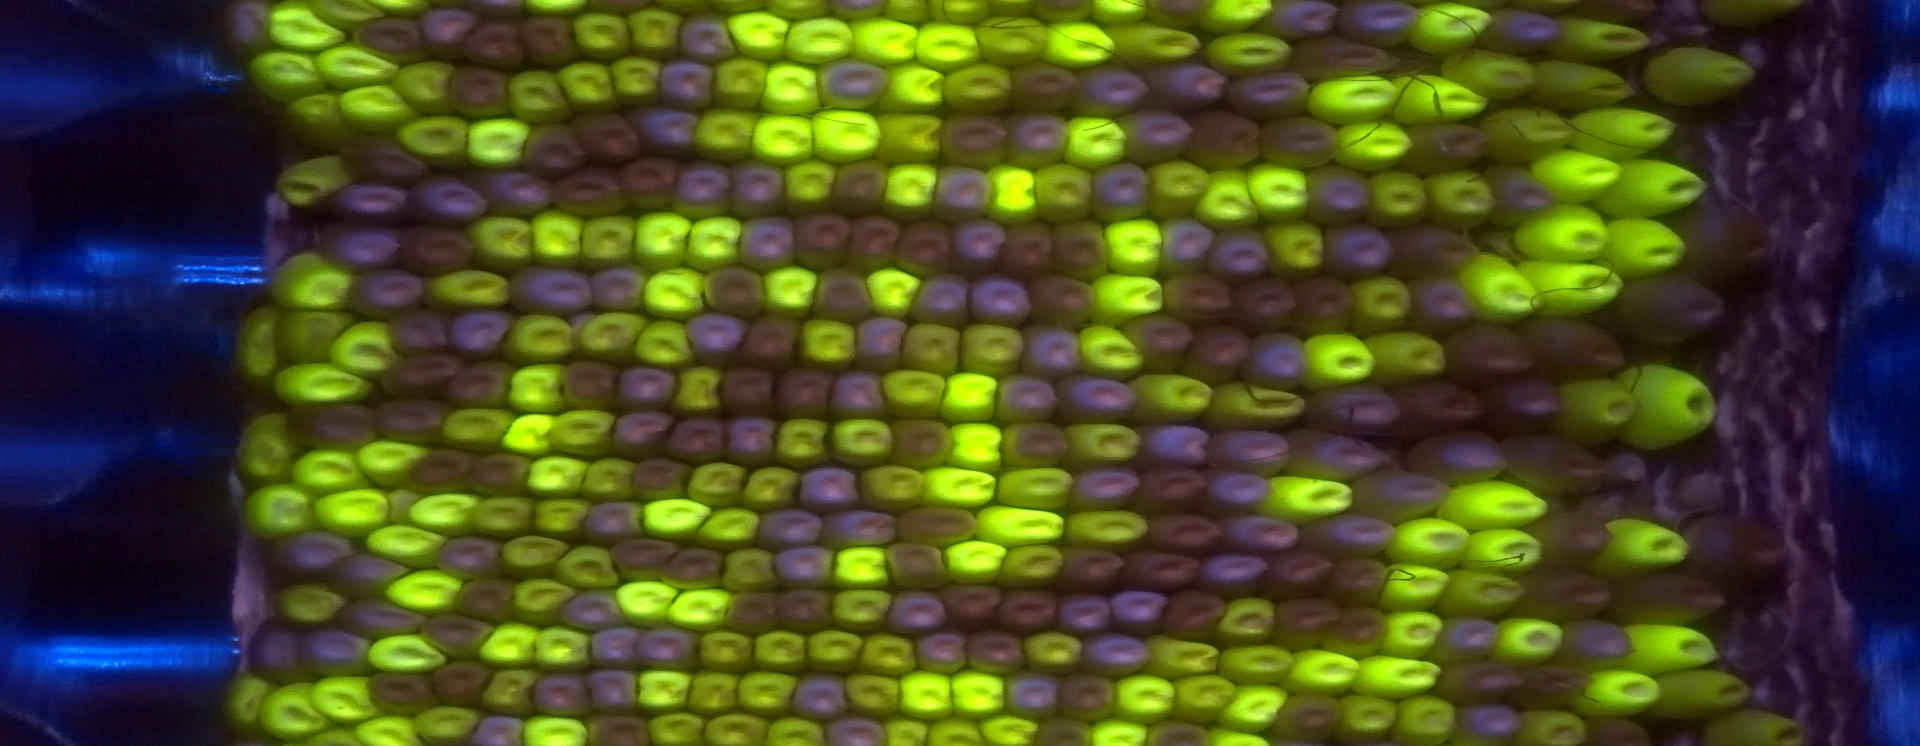fluorescent: (1614, 359, 1706, 457), (1456, 247, 1540, 325), (1507, 203, 1608, 263), (1651, 49, 1753, 107), (1605, 160, 1709, 216), (1553, 374, 1635, 443), (1523, 258, 1618, 318), (1600, 511, 1685, 576), (1565, 109, 1673, 159), (1438, 481, 1547, 530), (1547, 13, 1641, 67), (1622, 621, 1716, 675), (1598, 218, 1685, 276), (1250, 472, 1347, 523), (269, 251, 349, 312), (274, 306, 355, 364), (1300, 330, 1375, 391), (1311, 70, 1398, 121), (1449, 47, 1529, 102), (1385, 514, 1466, 570), (1529, 59, 1621, 107), (1487, 109, 1573, 159), (231, 409, 291, 480), (1569, 666, 1653, 717), (1447, 567, 1527, 620), (276, 159, 359, 209), (1531, 152, 1618, 198), (1660, 668, 1742, 717), (1194, 167, 1262, 224), (1086, 272, 1164, 322), (288, 92, 353, 152), (1389, 75, 1477, 119), (1131, 372, 1209, 423), (313, 38, 391, 87), (978, 12, 1047, 67), (331, 323, 400, 377), (1409, 4, 1491, 49), (1331, 119, 1404, 169), (1371, 331, 1445, 381), (276, 366, 369, 405), (1076, 323, 1142, 379), (1464, 529, 1540, 577), (313, 491, 393, 537), (800, 312, 862, 370), (1709, 708, 1804, 746), (1109, 24, 1198, 65), (1381, 560, 1449, 612), (640, 266, 703, 322), (1213, 382, 1298, 424), (366, 635, 447, 677), (1104, 216, 1163, 274), (397, 115, 469, 163), (1343, 276, 1407, 330), (467, 216, 531, 268), (1356, 655, 1440, 696), (340, 85, 418, 129), (269, 2, 338, 51), (814, 108, 878, 160), (978, 506, 1067, 544), (1204, 36, 1294, 72), (504, 312, 571, 363), (1249, 167, 1309, 222), (1431, 174, 1491, 229), (1142, 635, 1220, 677), (509, 69, 571, 122), (580, 309, 642, 363), (760, 60, 823, 113), (241, 486, 315, 530), (1284, 649, 1358, 693), (1067, 513, 1149, 552), (246, 51, 321, 94), (235, 315, 278, 390), (958, 326, 1021, 376), (396, 62, 460, 111), (1033, 165, 1090, 222), (481, 664, 541, 717), (1496, 617, 1562, 665), (387, 571, 462, 612), (1371, 173, 1427, 229), (684, 218, 741, 273), (636, 216, 693, 269), (984, 163, 1037, 222), (1147, 162, 1206, 214), (853, 16, 913, 67), (534, 209, 585, 269), (938, 371, 998, 423), (694, 111, 756, 162), (631, 318, 693, 367), (638, 497, 711, 539), (1046, 24, 1113, 70), (557, 61, 616, 113), (313, 675, 373, 725), (1380, 608, 1441, 657), (364, 524, 454, 557), (500, 528, 567, 572), (947, 64, 1005, 114), (883, 370, 942, 420), (901, 322, 962, 370), (1220, 681, 1281, 729), (784, 23, 853, 65), (260, 686, 322, 733), (1069, 116, 1125, 168), (753, 114, 811, 164), (407, 494, 480, 533), (533, 627, 591, 676), (429, 272, 509, 307), (449, 407, 509, 454), (1169, 675, 1234, 719), (577, 217, 632, 268), (885, 164, 936, 220), (1112, 677, 1176, 722), (1224, 644, 1292, 686), (497, 412, 557, 458), (860, 467, 924, 510), (877, 116, 938, 162), (1273, 220, 1325, 274), (887, 65, 942, 115), (360, 441, 426, 483), (1215, 598, 1273, 644), (775, 415, 827, 468), (866, 265, 916, 318), (615, 577, 671, 625), (1511, 709, 1589, 744), (916, 22, 973, 69), (831, 414, 889, 461), (557, 543, 620, 586), (920, 472, 994, 507), (467, 122, 530, 164), (691, 459, 742, 511), (511, 364, 564, 413), (550, 412, 611, 454), (1000, 469, 1071, 506), (480, 624, 538, 669), (225, 675, 271, 733), (279, 584, 342, 626), (825, 587, 888, 628), (762, 266, 812, 317), (811, 630, 862, 680), (471, 494, 531, 537), (833, 544, 893, 587), (778, 164, 833, 211), (1337, 692, 1393, 737), (729, 13, 786, 58), (943, 535, 1000, 579), (624, 9, 676, 58), (742, 467, 801, 510), (1078, 419, 1138, 461), (636, 668, 691, 713), (609, 58, 660, 105), (714, 59, 765, 107), (1401, 696, 1460, 737), (844, 677, 900, 720), (954, 421, 1004, 469), (293, 456, 362, 490), (670, 588, 729, 628), (1025, 630, 1080, 673), (573, 16, 628, 58), (699, 630, 752, 673), (697, 512, 758, 549), (719, 552, 781, 588), (529, 454, 585, 494), (684, 674, 737, 715), (741, 671, 795, 712), (676, 367, 722, 414), (416, 706, 481, 739), (519, 715, 588, 746), (901, 673, 949, 715), (1204, 1, 1276, 29), (538, 499, 590, 537), (862, 636, 915, 674), (951, 677, 1004, 715), (583, 463, 633, 502), (354, 715, 424, 742), (513, 578, 574, 609), (309, 1, 381, 27), (757, 632, 804, 670), (648, 712, 705, 742), (767, 717, 828, 745), (983, 712, 1036, 744), (703, 718, 763, 742), (924, 720, 984, 745), (1089, 720, 1147, 745), (1201, 724, 1273, 744), (884, 720, 931, 745), (1093, 1, 1144, 23), (769, 1, 828, 18), (936, 4, 992, 21), (524, 1, 585, 15), (884, 1, 932, 18)
nonfluorescent: (1682, 513, 1787, 586), (1671, 207, 1774, 276), (1518, 315, 1629, 377), (1615, 276, 1723, 337), (1502, 432, 1604, 495), (1618, 575, 1731, 625), (1353, 470, 1455, 523), (1389, 382, 1483, 435), (1482, 377, 1565, 436), (1444, 323, 1532, 379), (1534, 510, 1615, 570), (1284, 36, 1397, 77), (1411, 437, 1509, 485), (1254, 115, 1337, 169), (1291, 435, 1386, 481), (340, 271, 426, 322), (1517, 572, 1614, 617), (1308, 383, 1397, 432), (336, 134, 429, 179), (506, 268, 598, 314), (1392, 229, 1479, 277), (1213, 511, 1309, 554), (1227, 66, 1314, 113), (1069, 62, 1147, 114), (1406, 124, 1489, 171), (1058, 375, 1141, 423), (1146, 62, 1227, 111), (1319, 222, 1393, 274), (936, 111, 1007, 165), (791, 208, 853, 269), (1308, 517, 1402, 557), (1190, 113, 1258, 169), (1118, 111, 1195, 160), (1300, 167, 1370, 220), (290, 403, 372, 448), (1513, 664, 1596, 709), (399, 224, 471, 276), (262, 534, 354, 575), (1008, 60, 1078, 113), (1337, 1, 1420, 45), (1191, 320, 1249, 383), (1209, 428, 1289, 473), (1404, 277, 1472, 331), (447, 361, 519, 412), (411, 173, 487, 220), (321, 220, 400, 266), (931, 164, 994, 220), (1007, 113, 1071, 168), (1129, 317, 1194, 372), (814, 60, 889, 108), (351, 13, 424, 62), (746, 307, 804, 367), (1209, 228, 1270, 285), (1558, 620, 1640, 663), (216, 1, 271, 65), (899, 214, 951, 281), (1477, 11, 1558, 54), (1085, 164, 1149, 218), (795, 465, 864, 514), (378, 355, 465, 394), (302, 627, 370, 677), (250, 620, 306, 680), (549, 171, 624, 216), (480, 170, 553, 216), (1161, 276, 1234, 321), (375, 398, 448, 443), (1438, 659, 1522, 698), (1027, 276, 1095, 325), (1248, 333, 1309, 387), (819, 510, 895, 552), (1136, 465, 1206, 512), (1293, 278, 1351, 334), (433, 537, 507, 581), (707, 263, 767, 317), (1488, 170, 1549, 223), (1255, 1, 1337, 40), (1000, 218, 1052, 281), (1021, 325, 1084, 376), (996, 424, 1070, 467), (329, 554, 404, 597), (336, 598, 422, 635), (1151, 508, 1220, 555), (579, 113, 637, 168), (737, 213, 791, 272), (1237, 281, 1299, 331), (408, 447, 475, 494), (771, 548, 842, 592), (333, 180, 410, 220), (726, 164, 786, 216), (684, 314, 744, 365), (1276, 691, 1342, 737), (1084, 633, 1153, 677), (945, 581, 1007, 631), (636, 624, 703, 669), (381, 314, 452, 356), (633, 107, 697, 154), (1052, 218, 1106, 274), (420, 6, 473, 64), (845, 211, 898, 268), (1202, 551, 1267, 598), (950, 214, 1000, 274), (999, 372, 1059, 423), (452, 307, 513, 356), (1206, 472, 1272, 517), (899, 507, 977, 545), (1129, 549, 1202, 589), (1275, 597, 1329, 652), (621, 160, 678, 212), (463, 17, 522, 67), (670, 416, 730, 465), (446, 67, 507, 115), (721, 412, 776, 464), (610, 540, 677, 583), (366, 671, 433, 714), (778, 370, 836, 419), (456, 575, 514, 624), (422, 612, 487, 657), (1058, 548, 1127, 589), (525, 122, 580, 174), (678, 160, 730, 216), (567, 363, 624, 412), (893, 419, 951, 467), (969, 279, 1029, 326), (666, 544, 726, 590), (673, 13, 735, 59), (967, 630, 1029, 675), (1145, 425, 1213, 465), (1457, 702, 1526, 742), (918, 273, 969, 328), (616, 410, 671, 461), (522, 16, 578, 65), (1329, 606, 1385, 655), (1073, 468, 1139, 510), (885, 590, 948, 635), (564, 587, 623, 632), (1059, 675, 1118, 720), (1335, 556, 1389, 605), (831, 165, 889, 211), (1109, 588, 1167, 633), (1267, 556, 1336, 594), (471, 454, 530, 499), (729, 363, 778, 415), (632, 458, 692, 501), (828, 372, 884, 418), (1056, 590, 1113, 635), (658, 59, 709, 108), (1164, 592, 1223, 635), (535, 669, 587, 718), (1157, 220, 1205, 273), (754, 511, 820, 549), (1003, 586, 1059, 630), (584, 668, 642, 710), (588, 500, 647, 541), (855, 315, 900, 369), (431, 660, 481, 708), (729, 590, 781, 636), (1439, 617, 1498, 657), (798, 673, 847, 719), (818, 271, 869, 315), (624, 369, 677, 412), (785, 590, 833, 637), (1005, 673, 1058, 714), (889, 548, 943, 587), (587, 714, 653, 746), (917, 630, 967, 671), (587, 626, 638, 666), (469, 713, 528, 746), (598, 268, 647, 307), (1144, 1, 1202, 31), (827, 717, 885, 746), (1587, 717, 1643, 746), (1149, 720, 1209, 746), (1040, 717, 1085, 746)
